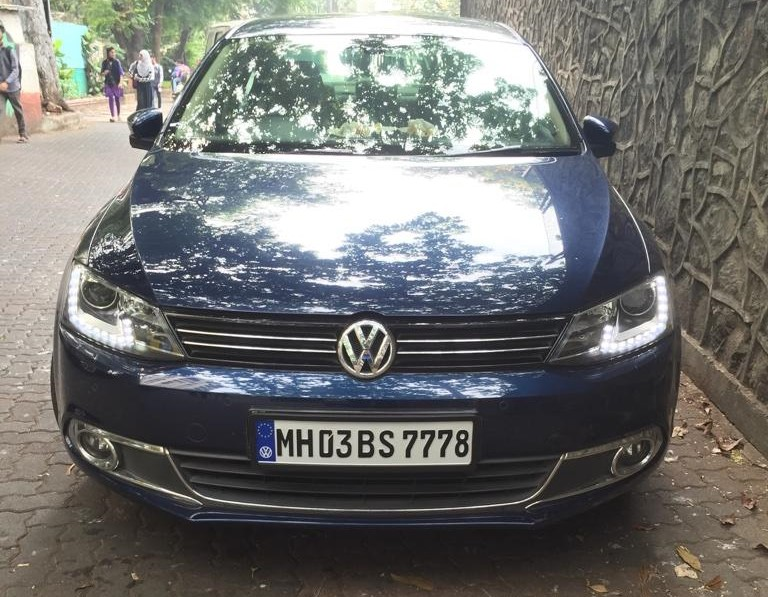MH03BS7778: (255, 421, 472, 466)
